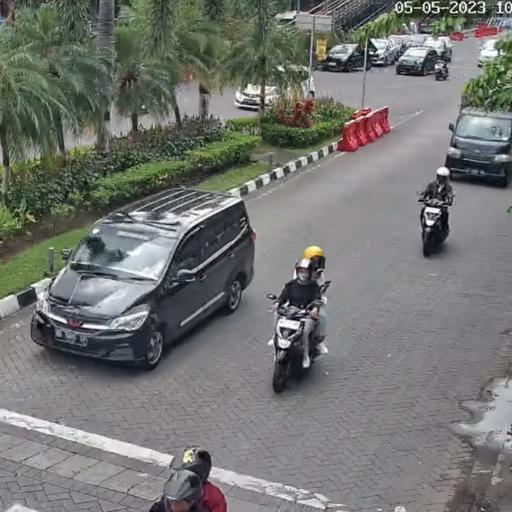mobil: (29, 186, 256, 374), (444, 104, 512, 188)
motor: (266, 280, 336, 396), (413, 187, 457, 259)
